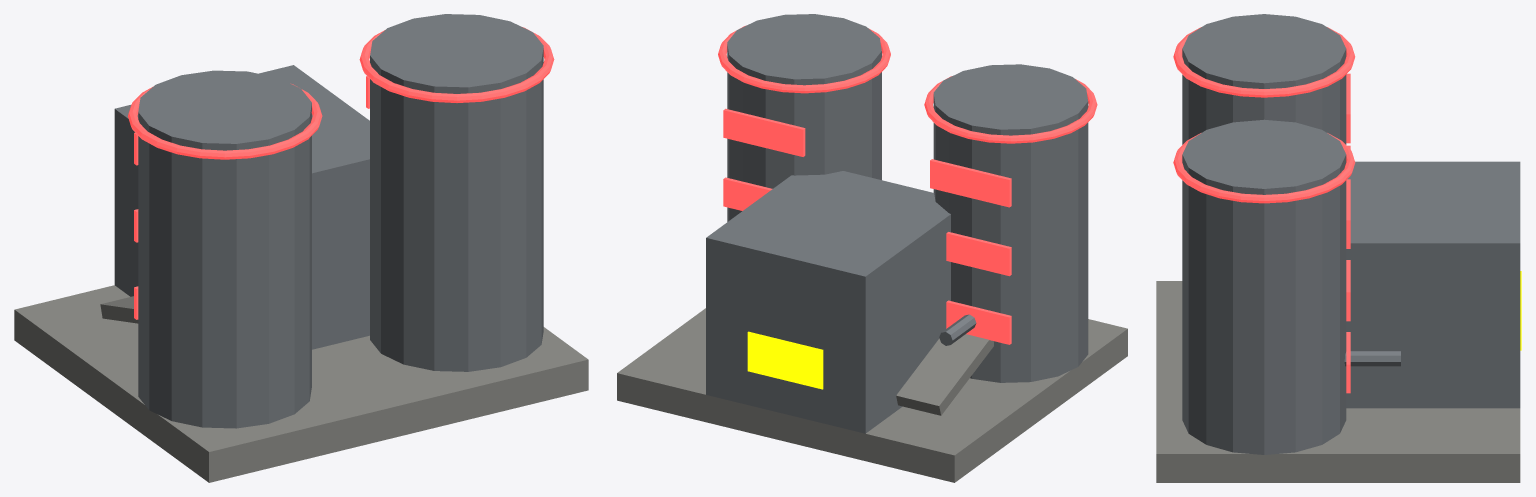
File: crimson_ore_melt.glb
3 views of the same model, side by side, from view 1: azimuth 30°, elevation 25°; view 2: azimuth 150°, elevation 25°; view 3: azimuth 270°, elevation 25° (orthographic). The views are drawn at different scales.
Visible parts, largest first — view 1: CrimsonOreMelt; view 2: CrimsonOreMelt; view 3: CrimsonOreMelt.
Part boxes in pixels (left/top/right/bottom): CrimsonOreMelt: left=14, top=14, right=588, bottom=482; CrimsonOreMelt: left=617, top=14, right=1127, bottom=482; CrimsonOreMelt: left=1156, top=14, right=1521, bottom=482.
Bounding box in the file's own units: 3.8 × 2.86 × 3.21.
